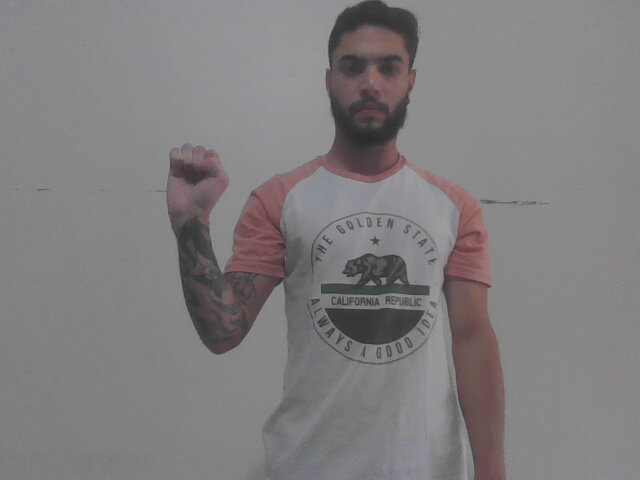s: (149, 136, 239, 225)
